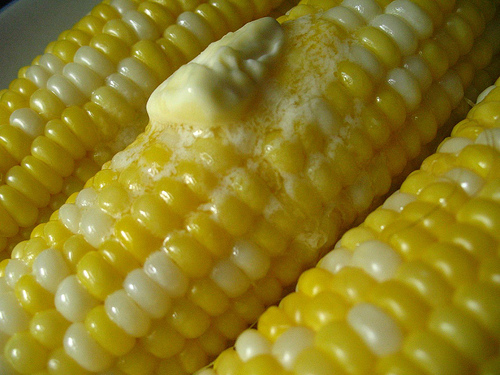corn: (2, 0, 499, 374)
